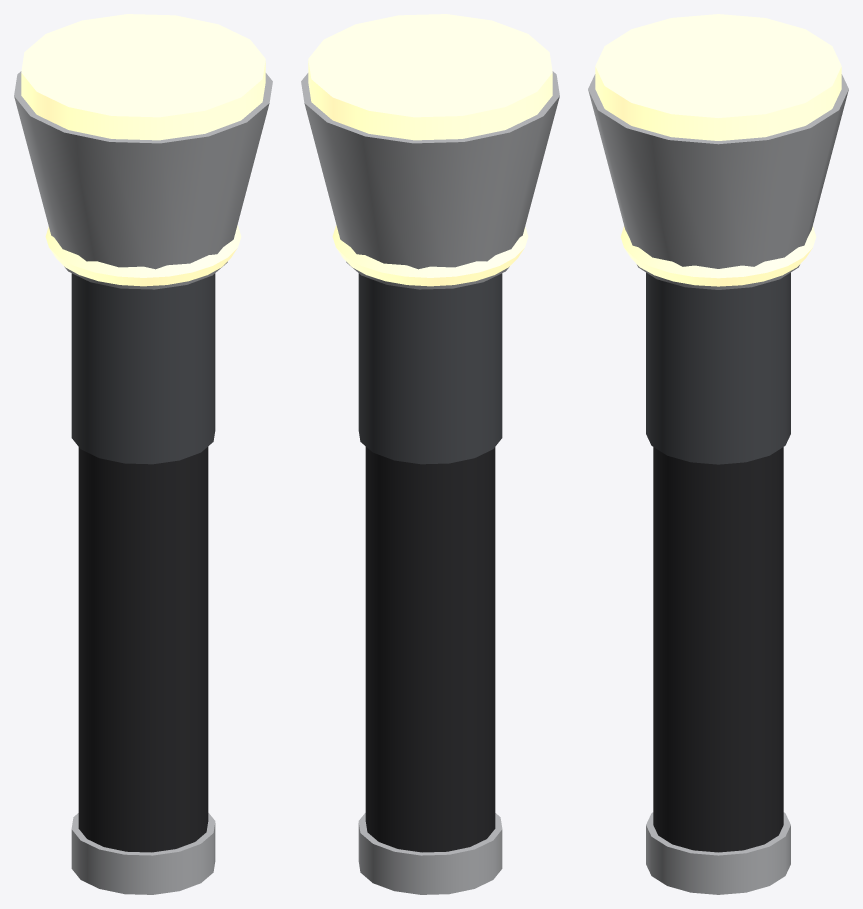
The model's file is torch.glb.
3 views of the same model, side by side, from view 1: azimuth 30°, elevation 25°; view 2: azimuth 150°, elevation 25°; view 3: azimuth 270°, elevation 25° (orthographic).
Visible parts, largest first — view 1: torch; view 2: torch; view 3: torch.
Boxes of the visible parts, x1=… form: torch: x1=14, y1=14, x2=272, y2=894; torch: x1=301, y1=14, x2=559, y2=894; torch: x1=588, y1=14, x2=848, y2=894.
Size of the model in its own units: 0.072 by 0.243 by 0.072.
